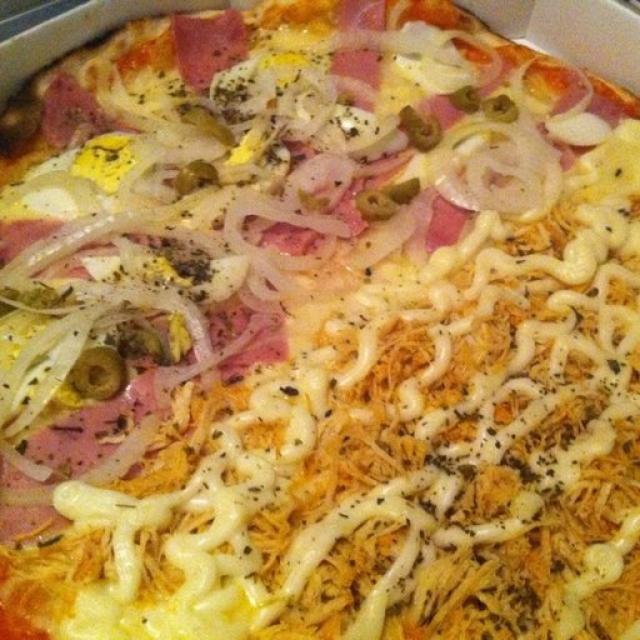Olives: (70, 348, 122, 397), (407, 106, 444, 151), (188, 112, 234, 144), (174, 162, 215, 184), (364, 190, 395, 216), (489, 95, 516, 121), (458, 92, 474, 106)
Onions: (21, 221, 189, 282), (223, 210, 335, 295), (436, 131, 552, 211), (18, 312, 83, 434), (166, 320, 260, 386), (131, 285, 210, 358), (82, 424, 158, 494), (414, 34, 505, 82), (245, 195, 348, 234), (282, 70, 338, 130), (19, 174, 100, 210), (8, 448, 50, 501), (135, 138, 169, 201), (366, 221, 402, 271), (353, 28, 414, 51)
Pizza: (0, 0, 640, 640)
